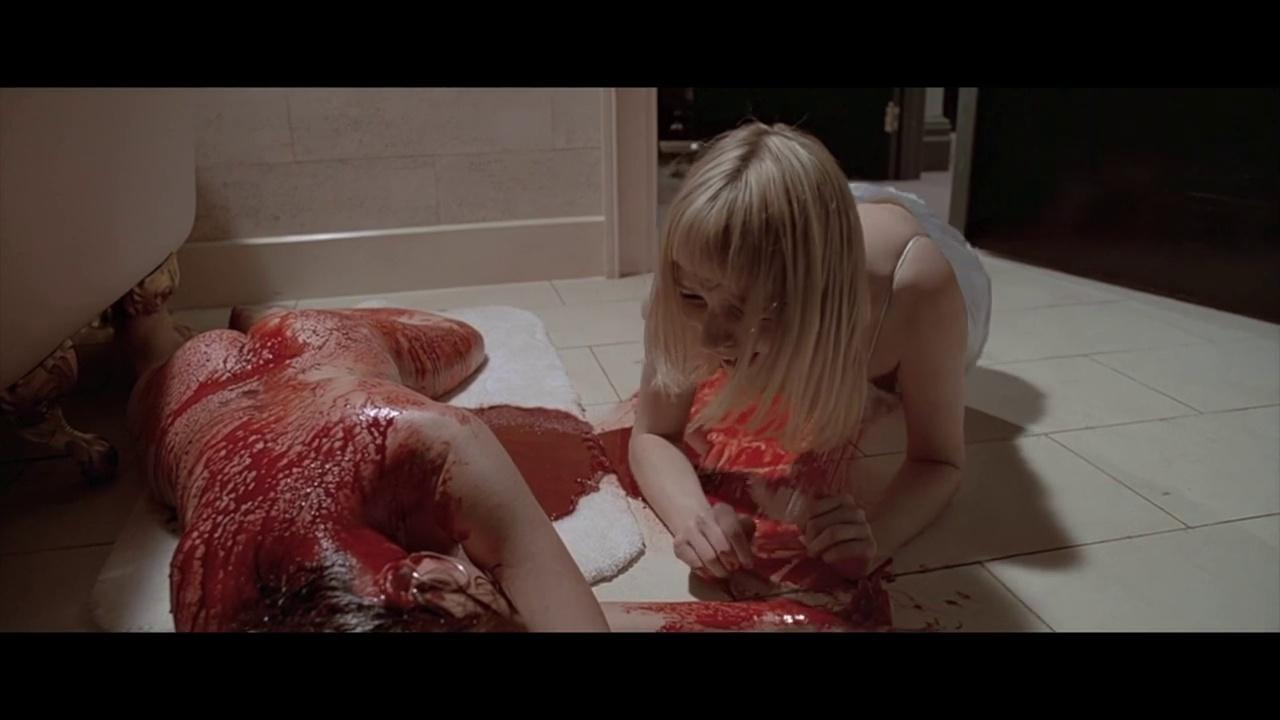Fire: (131, 310, 512, 632), (622, 516, 893, 632), (472, 405, 640, 520)
